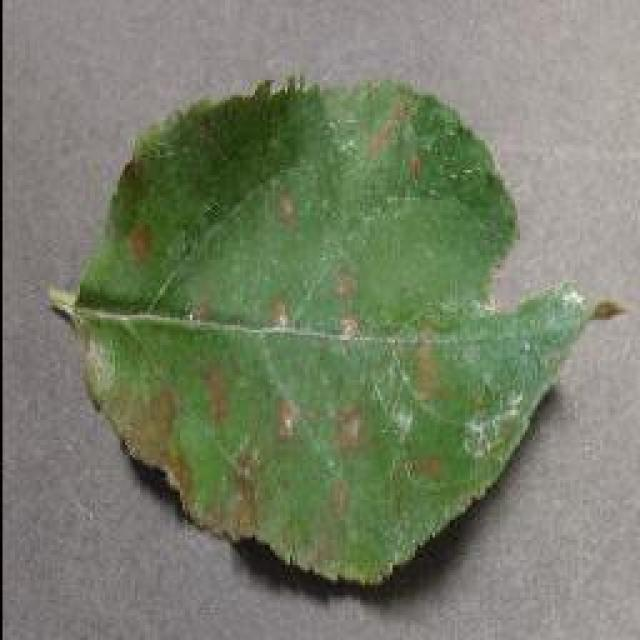apple scab disease: (45, 72, 627, 588)
